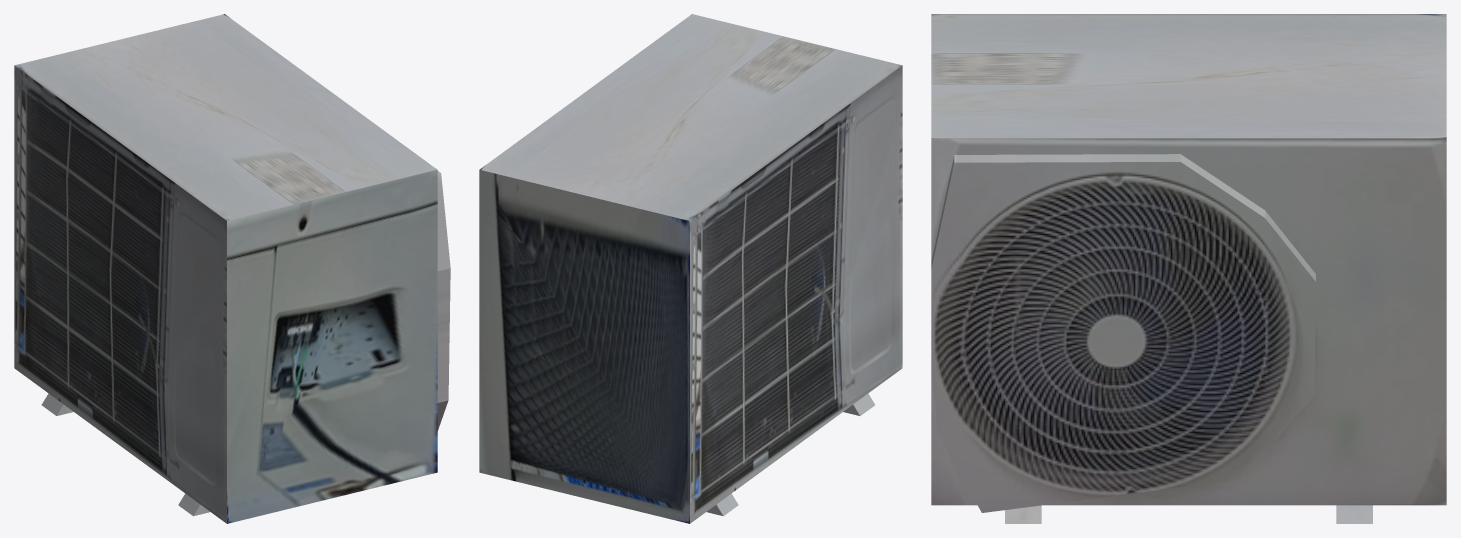
File: SilWaGI.fbx
The picture shows the model from 3 angles, left to right: view 1: azimuth 30°, elevation 25°; view 2: azimuth 150°, elevation 25°; view 3: azimuth 270°, elevation 25°; orthographic projection. The views are drawn at different scales.
Visible parts, largest first — view 1: FanCoilV1; view 2: FanCoilV1; view 3: FanCoilV1.
Boxes of the visible parts, bbox=[...] form: FanCoilV1: bbox=[14, 14, 450, 523]; FanCoilV1: bbox=[479, 14, 902, 523]; FanCoilV1: bbox=[931, 14, 1446, 523].
Bounding box in the file's own units: 104 × 138 × 168.
